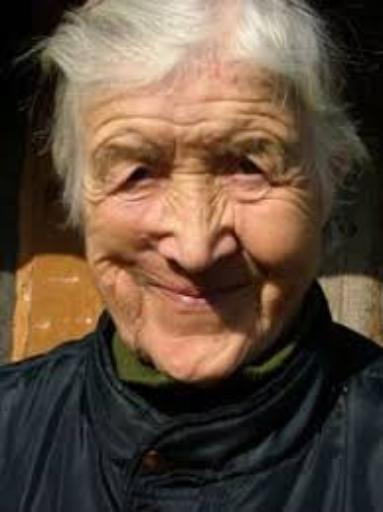left_eye: (221, 158, 270, 181)
left_lip_corner: (238, 277, 256, 298)
right_eye: (115, 164, 169, 190)
right_lip_corner: (144, 275, 169, 298)
